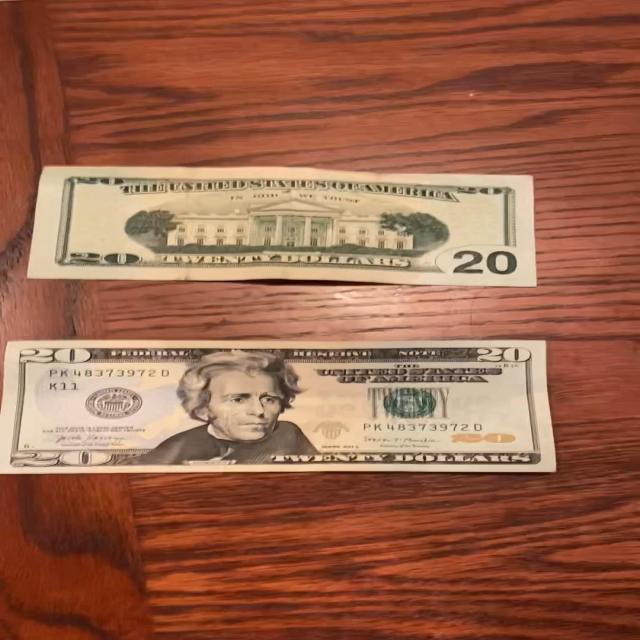20-Back: (26, 164, 542, 291)
20-Front: (0, 335, 565, 479)
